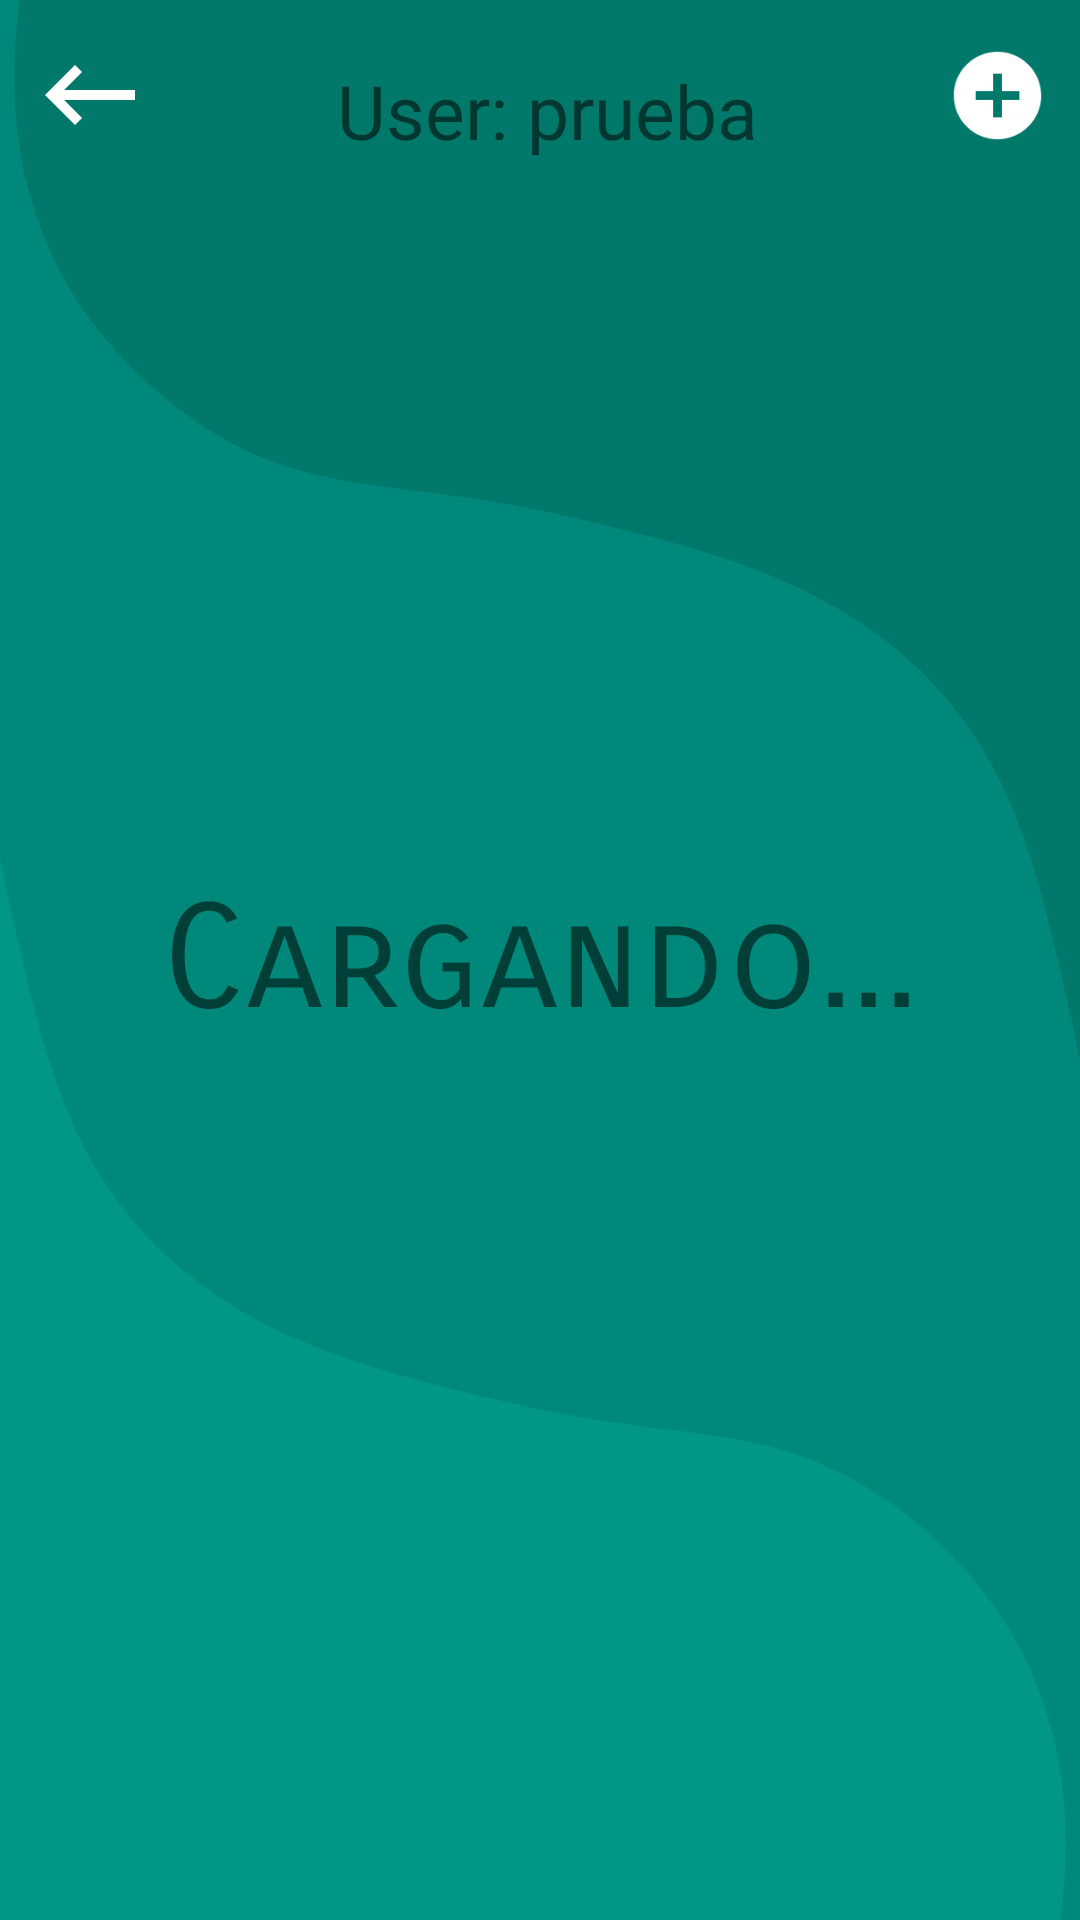

Icons on this 1080px×1920px Android screen, each with the point to tap as (x,y):
add: (997,95)
back: (90,95)
